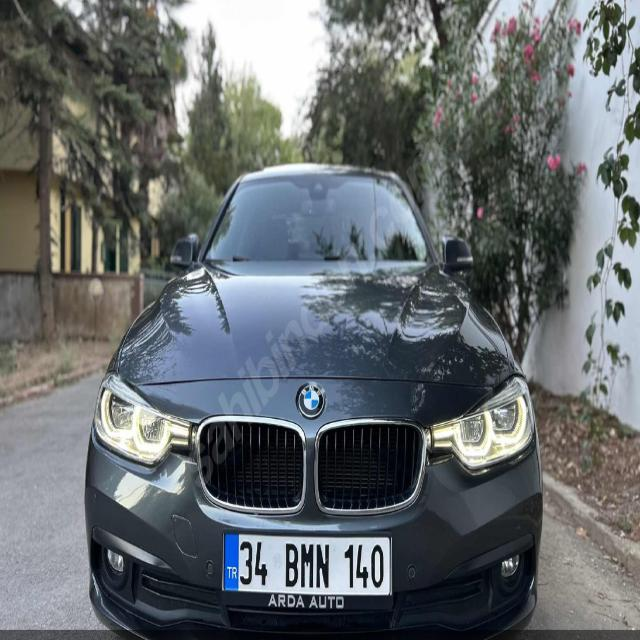bmw: (295, 379, 328, 420)
